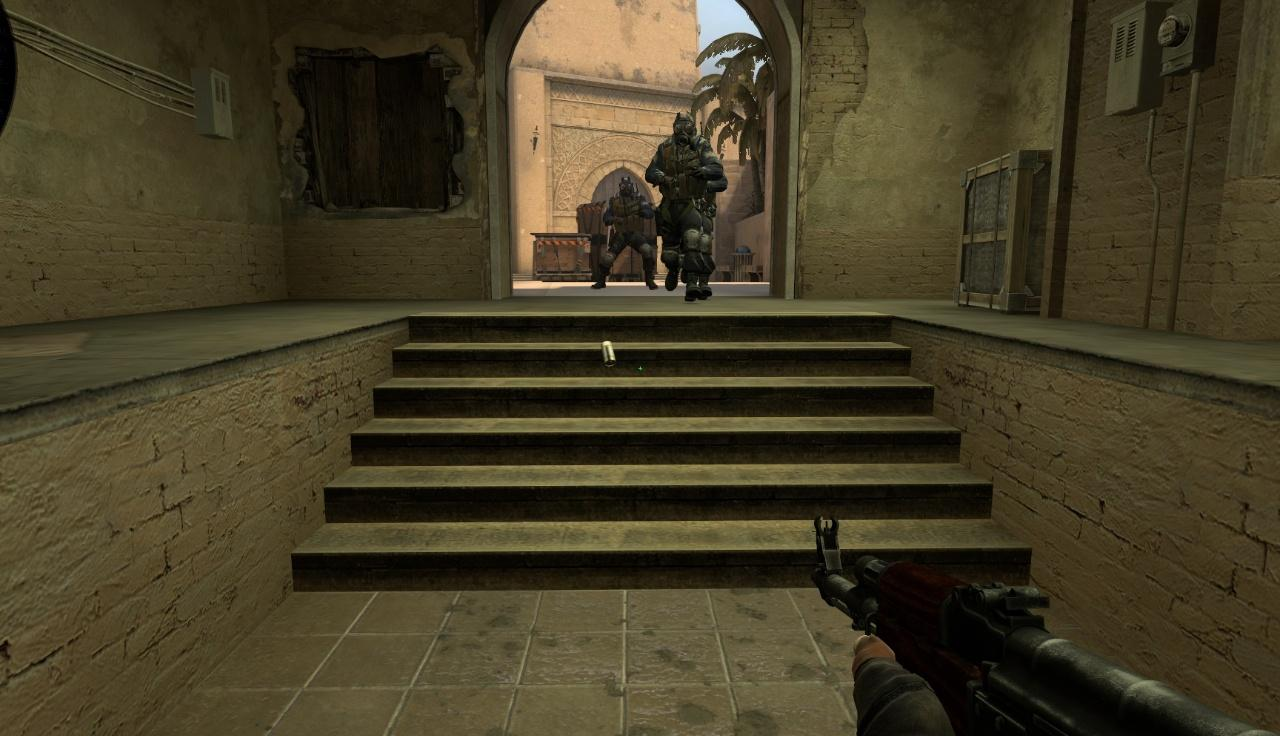ct: (645, 110, 724, 302), (591, 176, 658, 289)
cthead: (671, 110, 697, 144), (618, 176, 635, 198)
rifle: (808, 514, 1277, 736)
